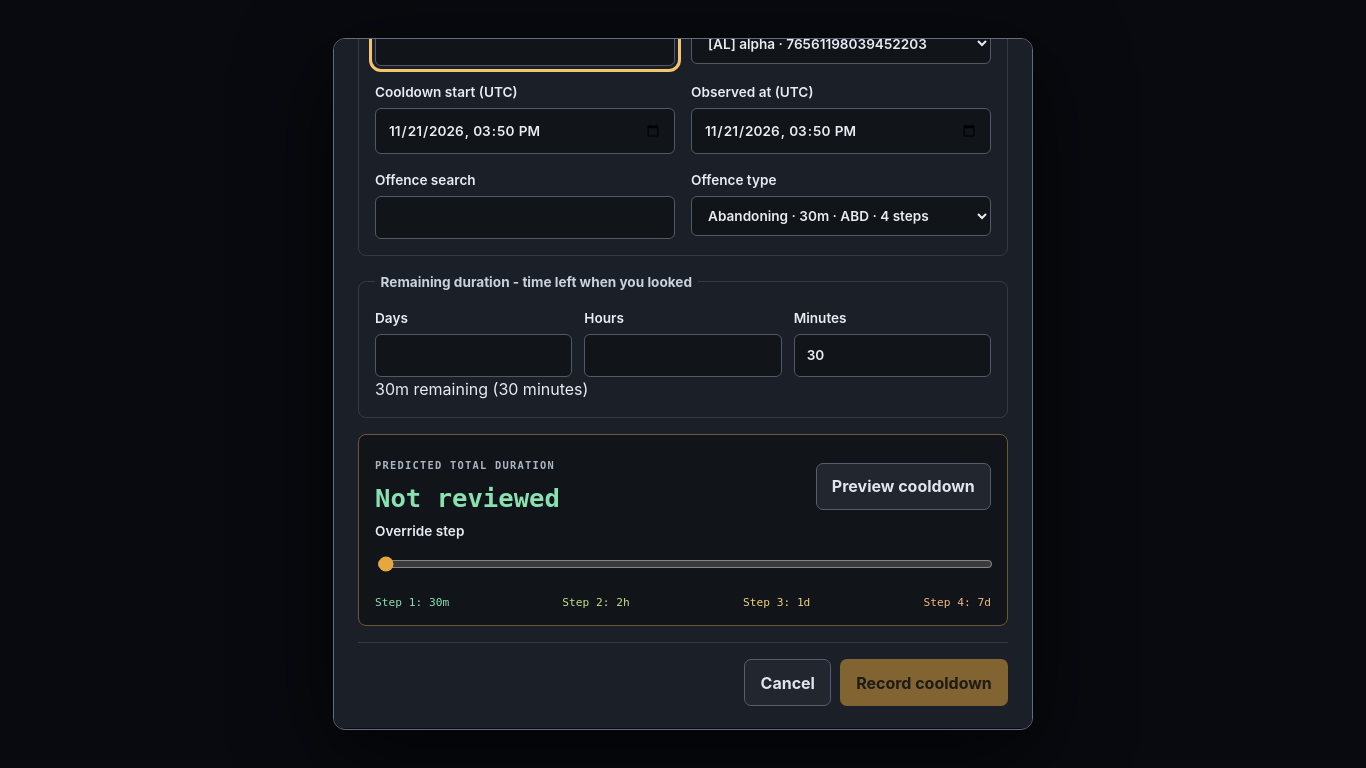
Test: identifies report accounts with initials and explains exact preview sample counts
(page scrolled)
Click the button "Preview cooldown": (903, 486) [816,463,991,510]
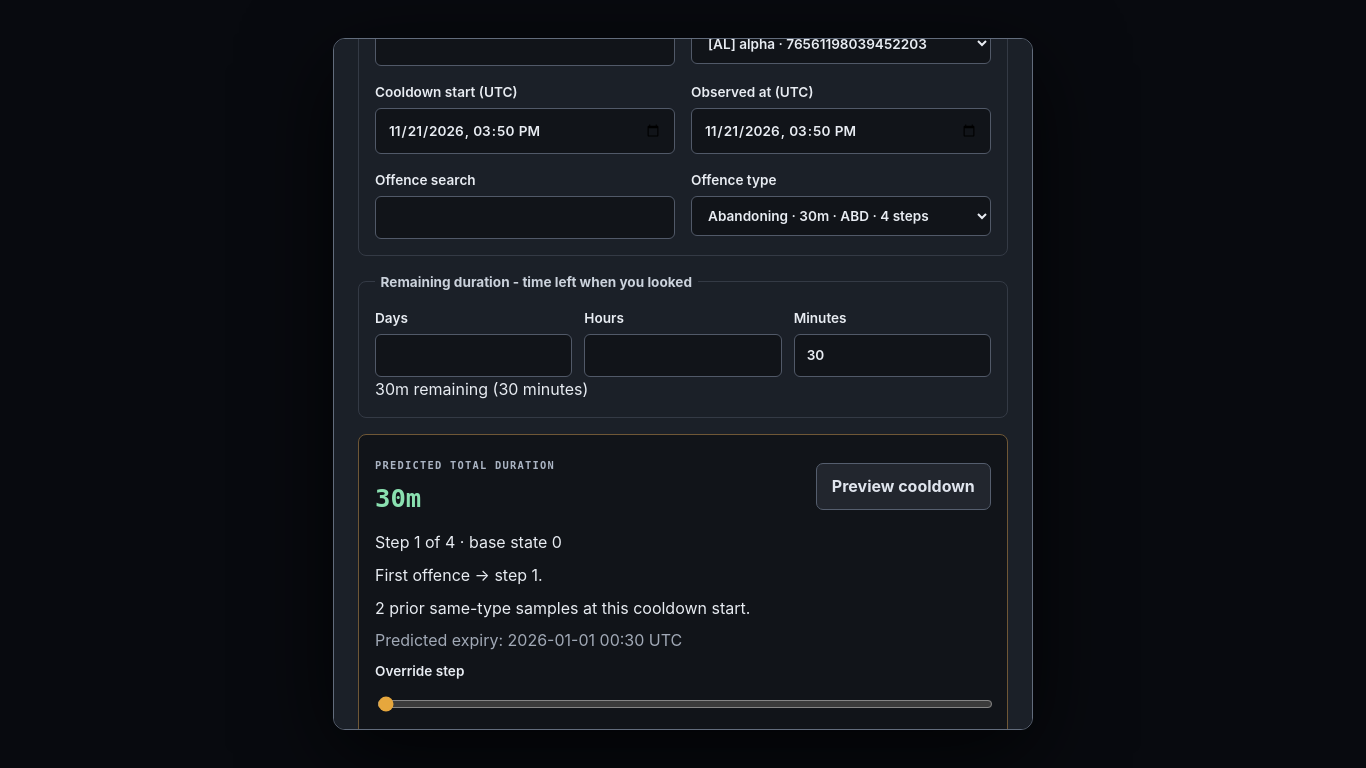
Now the text "2 prior same-type samples at this cooldown start." is shown, box [375,598,750,618]
